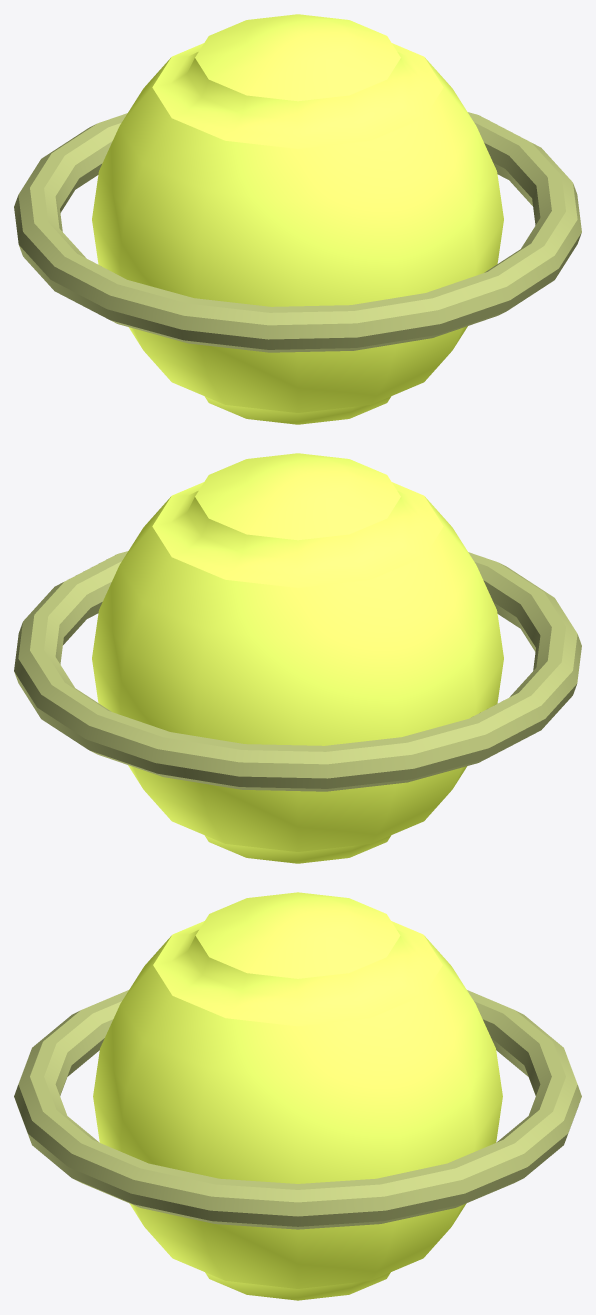
The model's file is s0_Baliza_on_art_01.glb.
3 views of the same model, one above another, from view 1: azimuth 30°, elevation 25°; view 2: azimuth 150°, elevation 25°; view 3: azimuth 270°, elevation 25° (orthographic).
Visible parts, largest first — view 1: node_Baliza_on_art, node_Look_here_detail; view 2: node_Baliza_on_art, node_Look_here_detail; view 3: node_Baliza_on_art, node_Look_here_detail.
Part boxes in pixels (x1,y1,x2,y2): node_Baliza_on_art: (92,14,503,424); node_Look_here_detail: (14,112,581,352); node_Baliza_on_art: (92,453,503,863); node_Look_here_detail: (14,551,581,791); node_Baliza_on_art: (93,892,502,1300); node_Look_here_detail: (14,990,581,1229).
Size of the model in its own units: 0.1372 by 0.099 by 0.1372.
